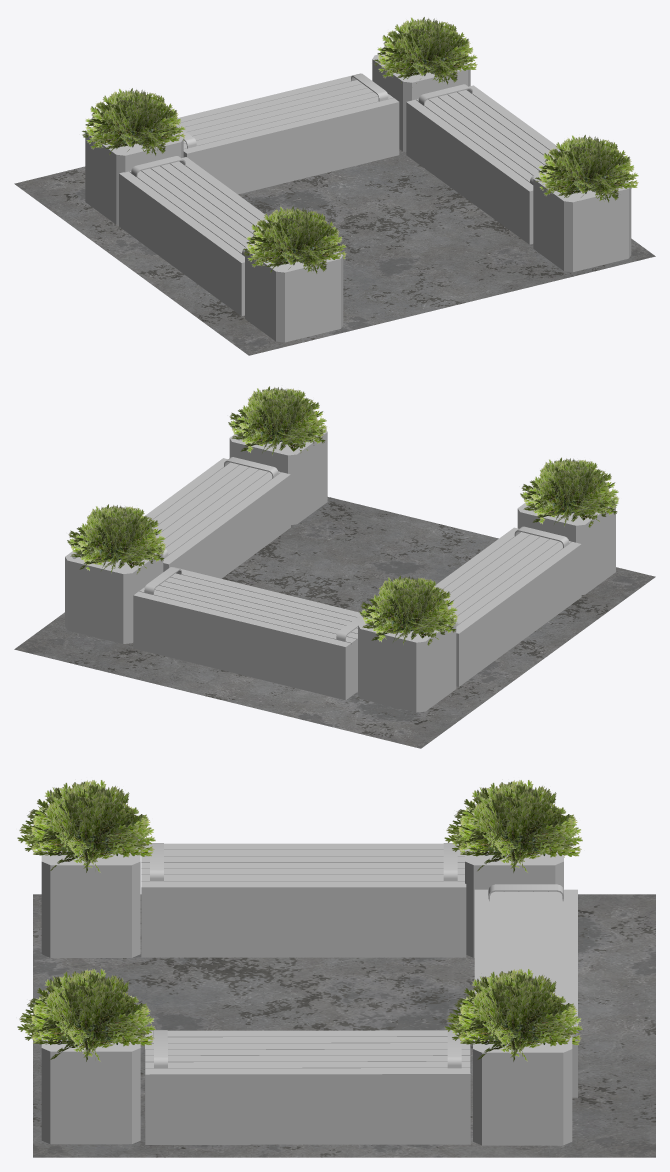
3 renders of one model, top to bottom at view 1: azimuth 30°, elevation 25°; view 2: azimuth 150°, elevation 25°; view 3: azimuth 270°, elevation 25°, orthographic. The views are drawn at different scales.
Parts seen in each view (by area): view 1: Plane.005, bench_low.001, bench2_low.001, pot_low.003, pot_low, bench2_low.002, bench2_low, bench_low.002, bench_low, Plane.001, Plane.003, Plane.138 (+4 smaller); view 2: Plane.005, bench_low.001, bench2_low.001, pot_low.001, bench2_low.002, bench_low, bench2_low, pot_low.002, bench_low.002, Plane.138, Plane.003, Plane.001 (+4 smaller); view 3: Plane.005, bench_low.002, bench_low, bench2_low.002, bench2_low, pot_low, pot_low.002, pot_low.003, bench2_low.001, Plane.003, Plane.004, Plane.138 (+6 smaller).
Boxes of the visible parts, x1=… form: Plane.005: x1=14, y1=149, x2=655, y2=355; bench_low.001: x1=183, y1=104, x2=399, y2=194; bench2_low.001: x1=176, y1=73, x2=399, y2=155; pot_low.003: x1=533, y1=172, x2=631, y2=272; pot_low: x1=245, y1=243, x2=343, y2=342; bench2_low.002: x1=406, y1=85, x2=560, y2=192; bench2_low: x1=119, y1=157, x2=268, y2=264; bench_low.002: x1=406, y1=104, x2=533, y2=244; bench_low: x1=119, y1=175, x2=244, y2=316; Plane.001: x1=374, y1=17, x2=477, y2=84; Plane.003: x1=243, y1=206, x2=346, y2=273; Plane.138: x1=82, y1=88, x2=185, y2=155; Plane.005: x1=14, y1=497, x2=655, y2=748; bench_low.001: x1=133, y1=597, x2=357, y2=700; bench2_low.001: x1=133, y1=567, x2=360, y2=648; pot_low.001: x1=358, y1=615, x2=456, y2=712; bench2_low.002: x1=145, y1=458, x2=290, y2=565; bench_low: x1=456, y1=546, x2=581, y2=686; bench2_low: x1=434, y1=527, x2=581, y2=635; pot_low.002: x1=65, y1=550, x2=163, y2=643; bench_low.002: x1=163, y1=476, x2=290, y2=578; Plane.138: x1=359, y1=575, x2=457, y2=645; Plane.003: x1=520, y1=457, x2=619, y2=527; Plane.001: x1=67, y1=504, x2=166, y2=574; Plane.005: x1=33, y1=894, x2=655, y2=1157; bench_low.002: x1=145, y1=1052, x2=470, y2=1144; bench_low: x1=141, y1=889, x2=466, y2=957; bench2_low.002: x1=145, y1=1030, x2=470, y2=1076; bench2_low: x1=141, y1=843, x2=466, y2=889; pot_low: x1=41, y1=839, x2=140, y2=957; pot_low.002: x1=473, y1=1026, x2=572, y2=1145; pot_low.003: x1=41, y1=1028, x2=140, y2=1144; bench2_low.001: x1=474, y1=889, x2=577, y2=1026; Plane.003: x1=17, y1=780, x2=155, y2=872; Plane.004: x1=17, y1=968, x2=155, y2=1061; Plane.138: x1=444, y1=780, x2=582, y2=872.
Bounding box in the file's own units: 359 × 96.06 × 370.
